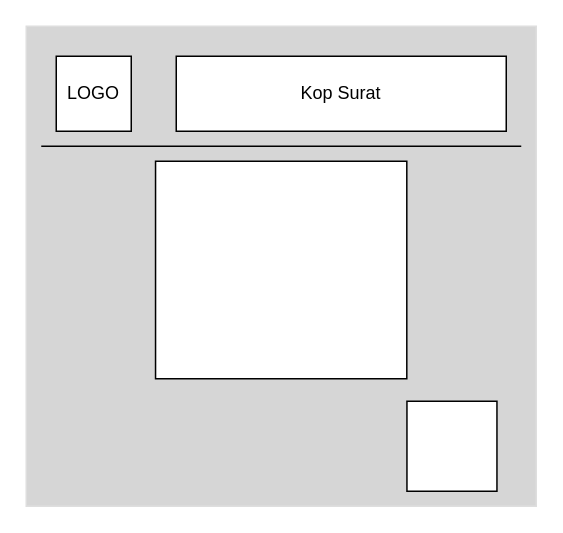
Image size: 563x533. Some labels were removed from this diagram. Here are the shapes that lost their labels. From the top down, the centre of each, then its label:
the point at 280,269: Text/Tabel
the point at 451,445: TTD
